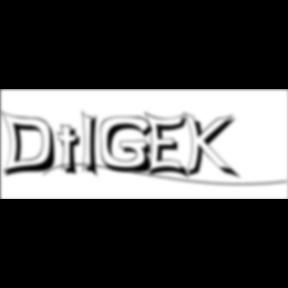D: (0, 110, 64, 180)
E: (144, 110, 194, 182)
G: (101, 116, 160, 176)
K: (184, 110, 243, 182)
l: (83, 108, 106, 182)
t: (57, 124, 88, 179)
